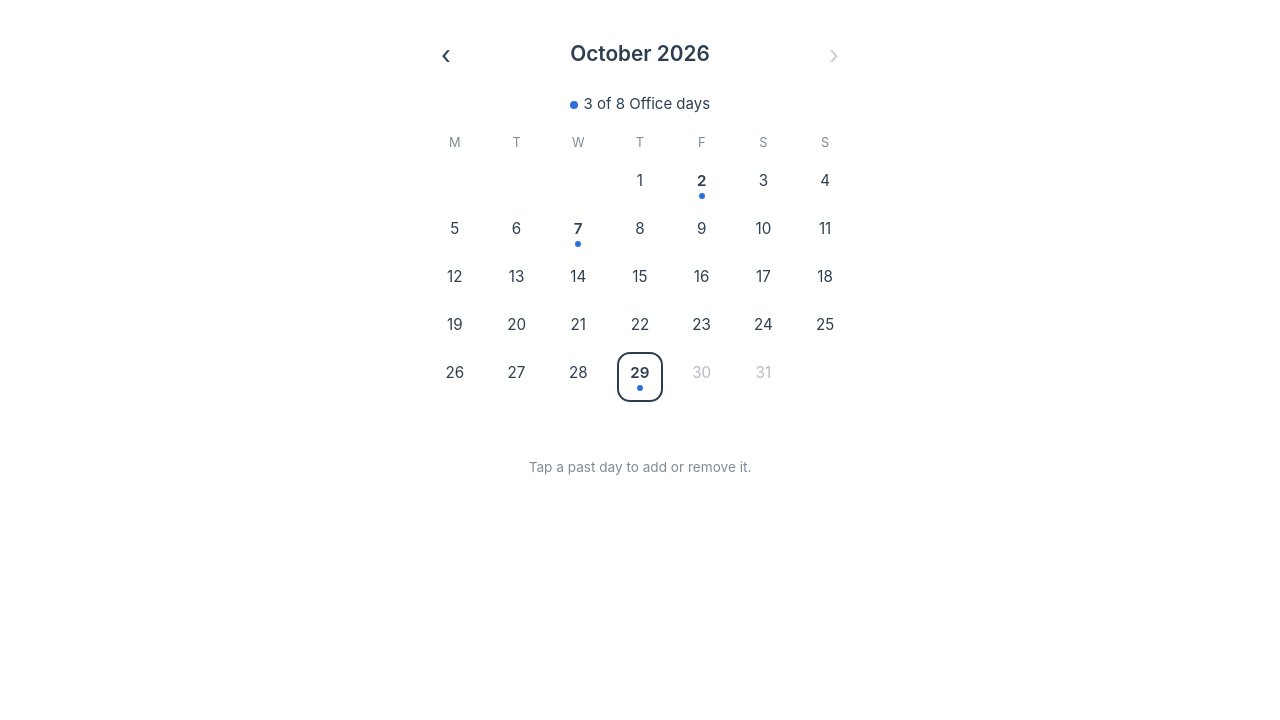
Test case: CalendarView › adds a past day from its panel
Click the button "21": (578, 330) [558,308,598,352]
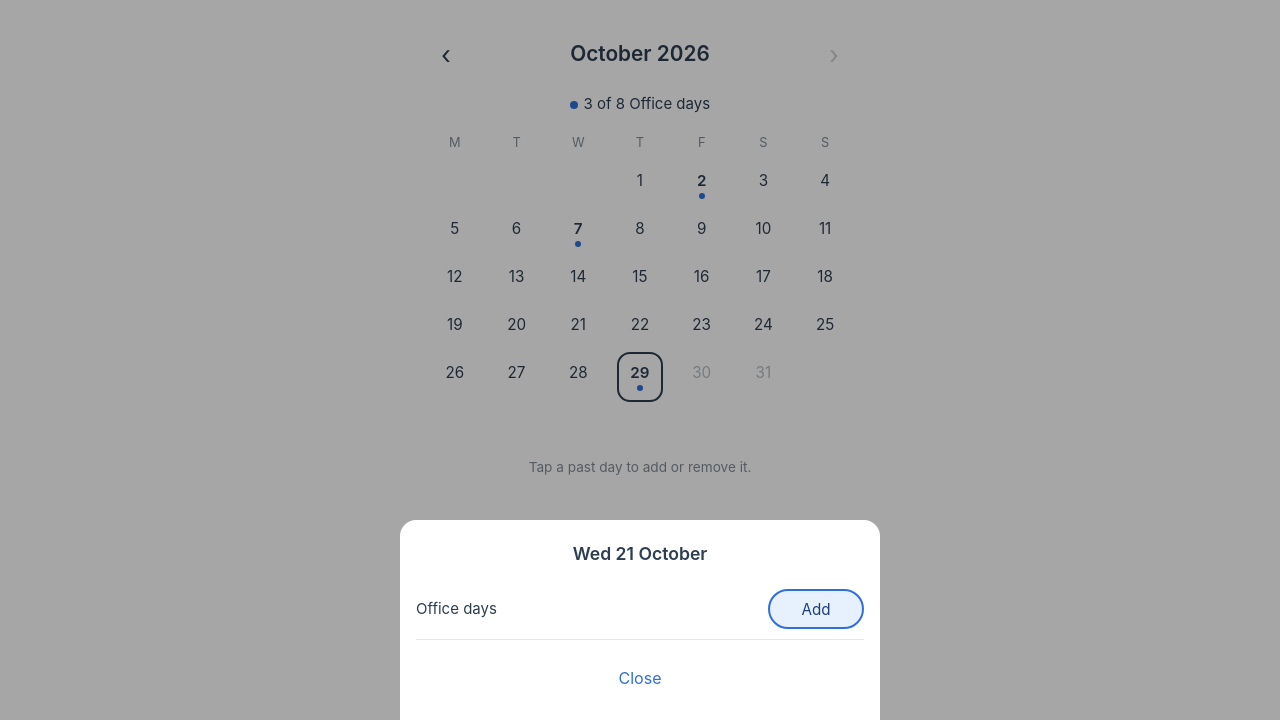
Expected: the dialog shows "Wed 21 October", [573,543,707,564]
Click the button with class "add": (816, 609) [768,589,864,629]
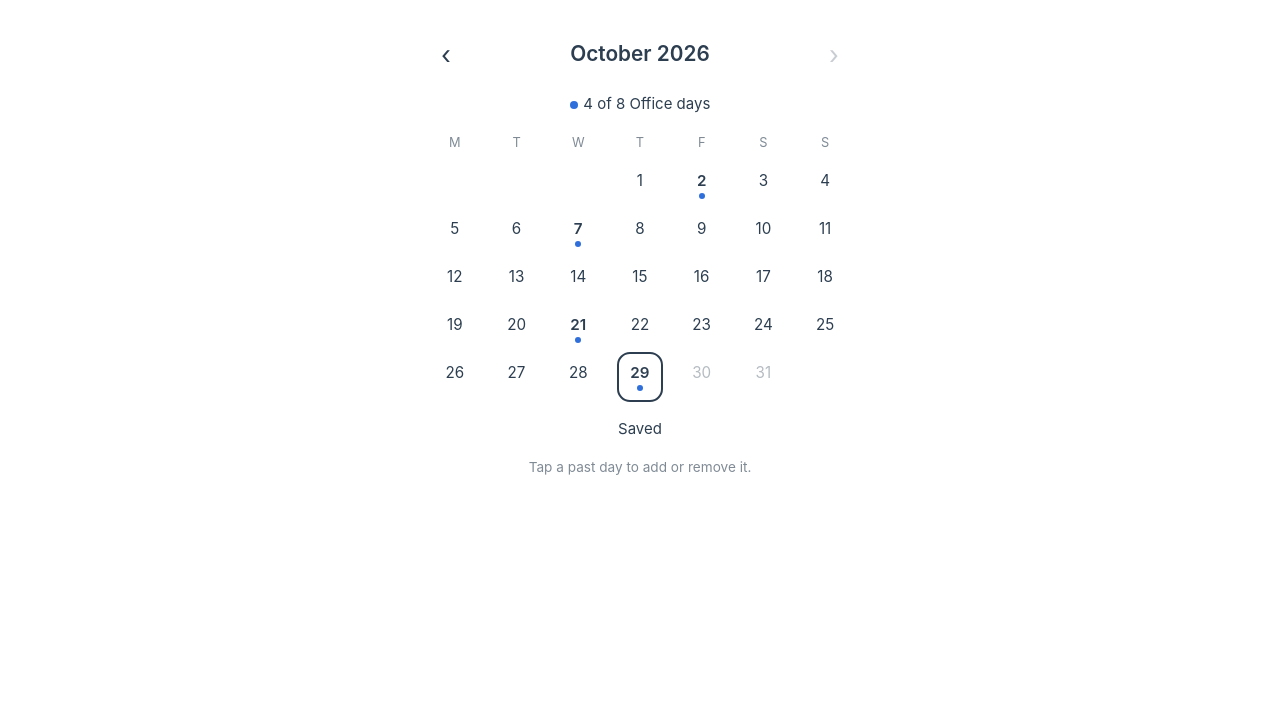
Expected: the text "4 of 8 Office days" is shown, [570,94,710,113]
Expected: the text "Saved" is shown, [618,420,662,438]
